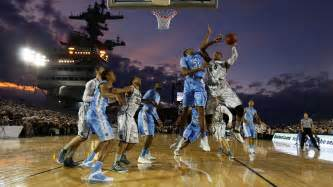basketball: (223, 32, 239, 46)
